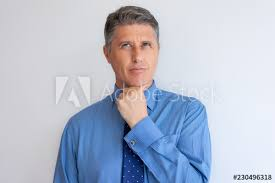white_male: (112, 25, 154, 93)
